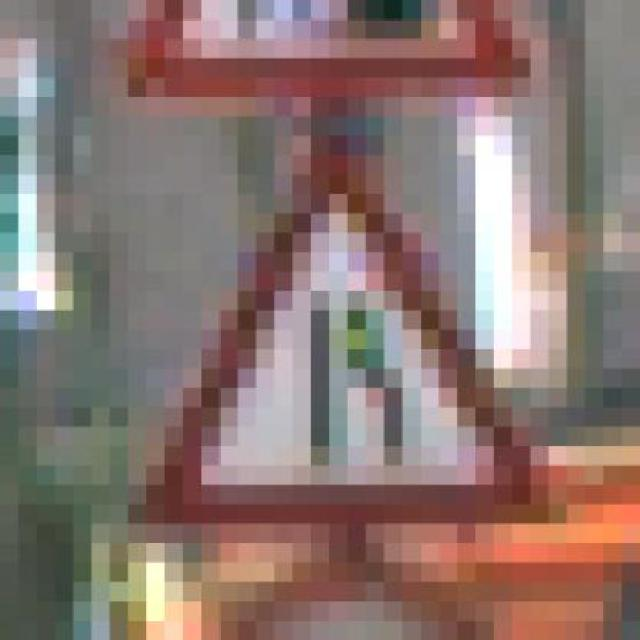-Road narrows on right: (128, 112, 568, 540)
